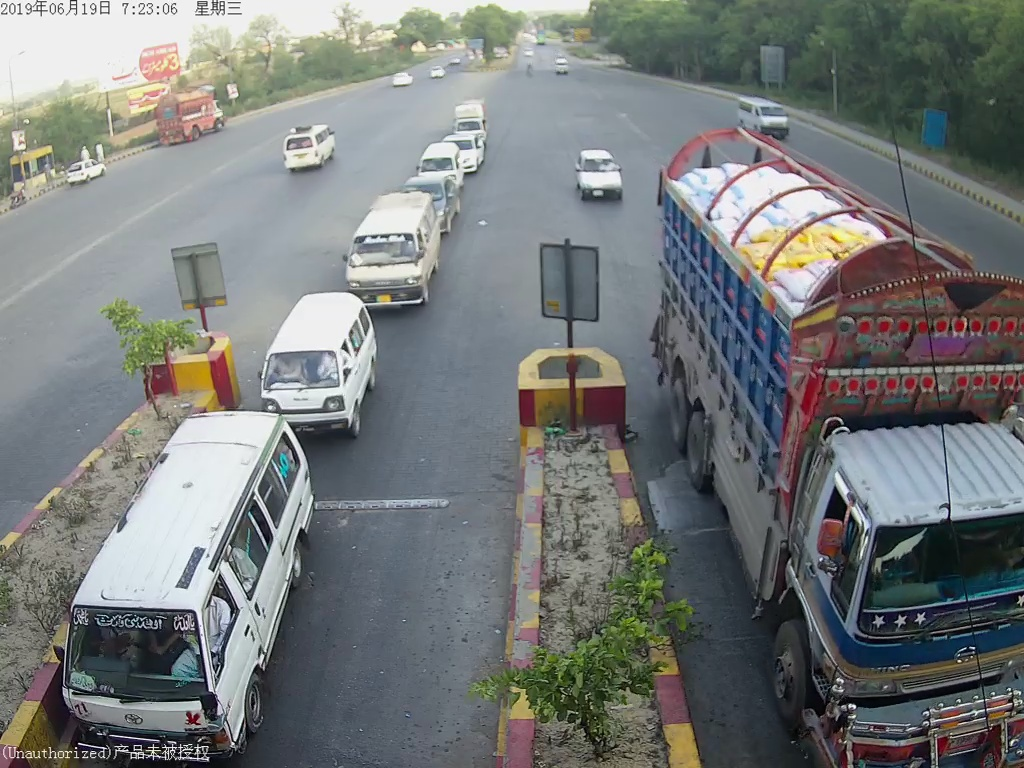Cat-1: (257, 291, 381, 412), (567, 148, 629, 209)
Cat-2: (57, 426, 333, 748), (345, 195, 433, 300)
Cat-4: (655, 129, 1024, 766)
